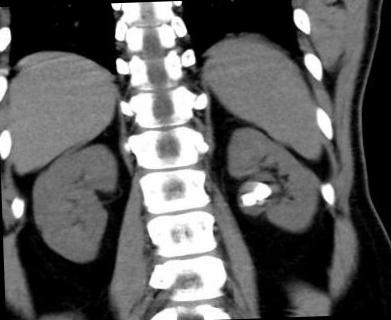Tas_Var: (240, 182, 274, 208)
